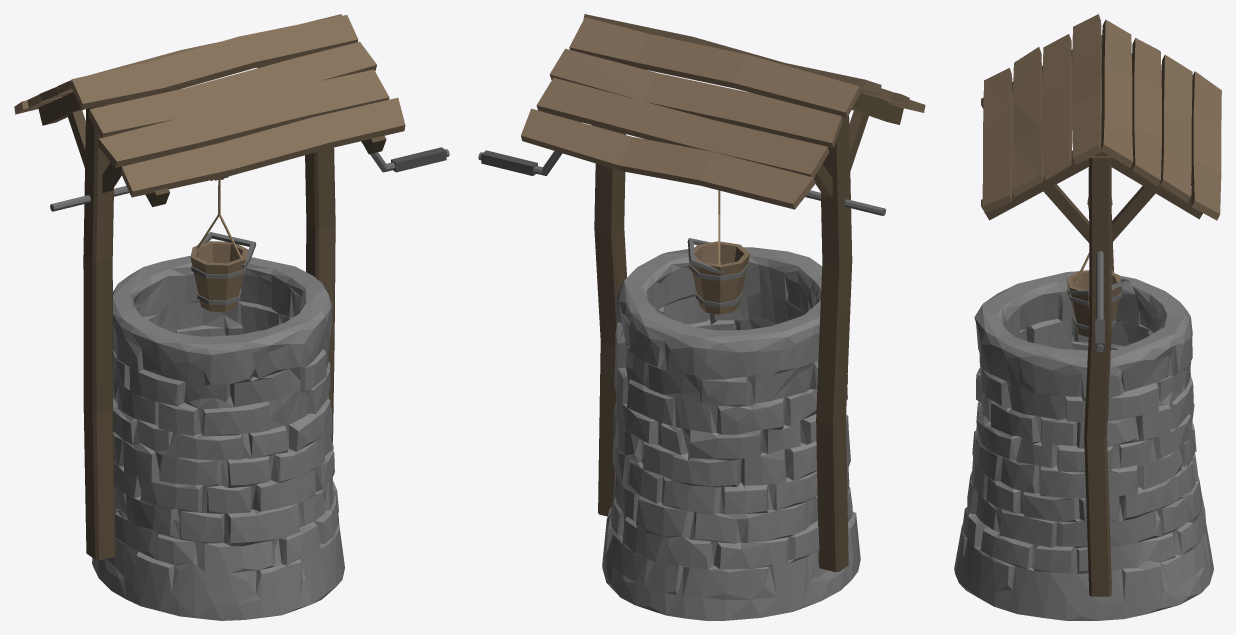
File: well_a.FBX
The picture shows the model from 3 angles, left to right: view 1: azimuth 30°, elevation 25°; view 2: azimuth 150°, elevation 25°; view 3: azimuth 270°, elevation 25°; orthographic projection. The views are drawn at different scales.
Parts seen in each view (by area): view 1: well_a; view 2: well_a; view 3: well_a.
Part boxes in pixels (x1,y1,x2,y2): well_a: (14,14,449,620); well_a: (478,14,925,620); well_a: (954,14,1221,620).
Bounding box in the file's own units: 2.83 × 3.52 × 1.73.
